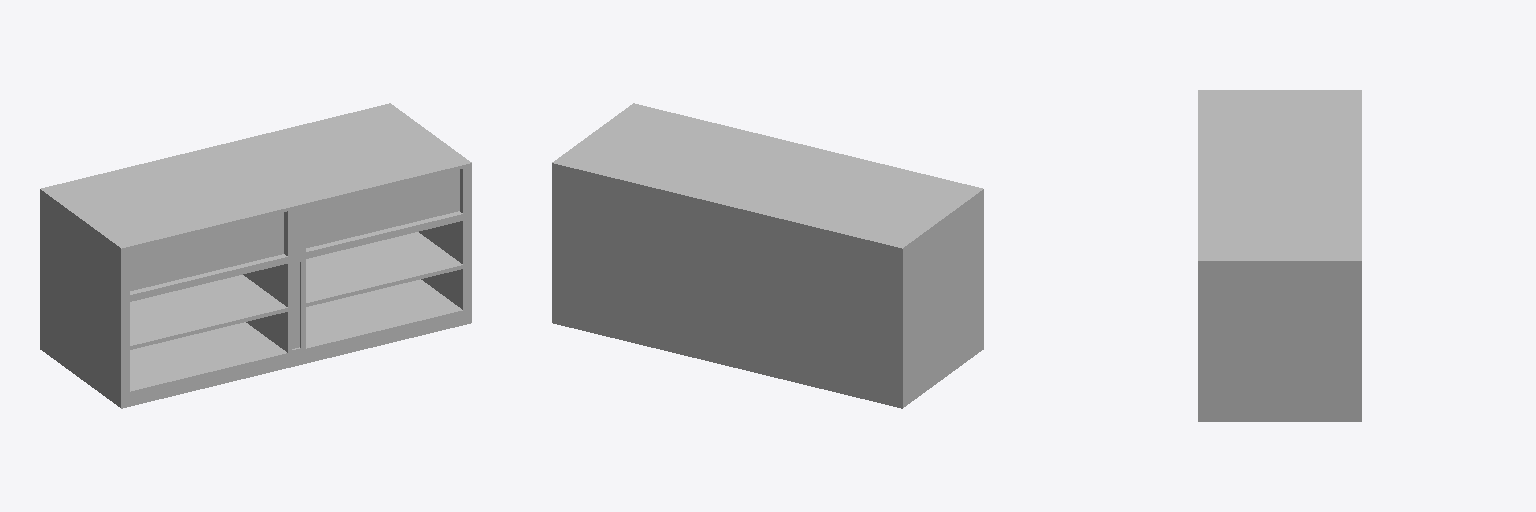
The model's file is KomodaD.obj.
3 views of the same model, side by side, from view 1: azimuth 30°, elevation 25°; view 2: azimuth 150°, elevation 25°; view 3: azimuth 270°, elevation 25° (orthographic).
Visible parts, largest first — view 1: Cube.002_Cube.007; view 2: Cube.002_Cube.007; view 3: Cube.002_Cube.007.
Boxes of the visible parts, box(x1,y1,x2,y2) form: Cube.002_Cube.007: box(40, 103, 471, 408); Cube.002_Cube.007: box(552, 103, 983, 408); Cube.002_Cube.007: box(1198, 90, 1361, 421).
Bounding box in the file's own units: 3.13 × 1.37 × 1.26.